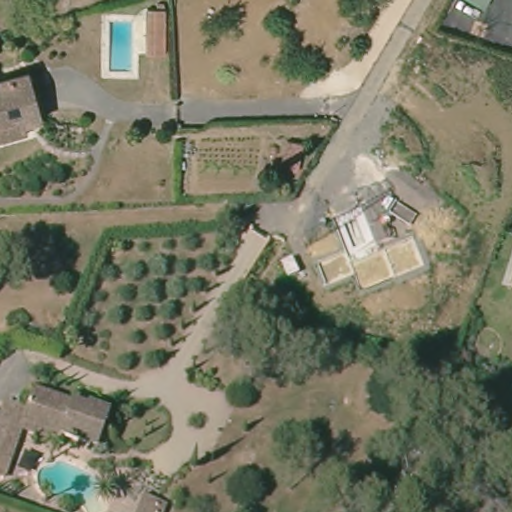pool: (34, 453, 100, 502), (103, 16, 140, 81)
